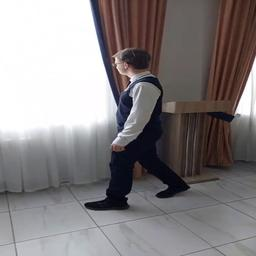person: (85, 48, 190, 210)
